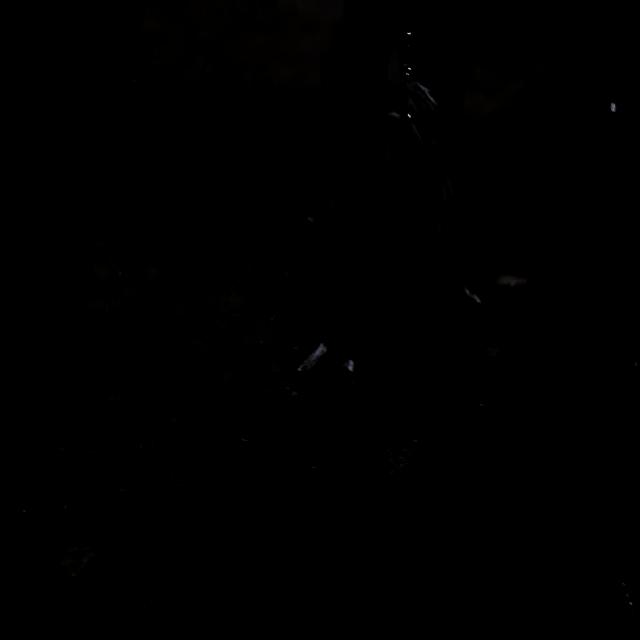Dog: (260, 57, 565, 598)
